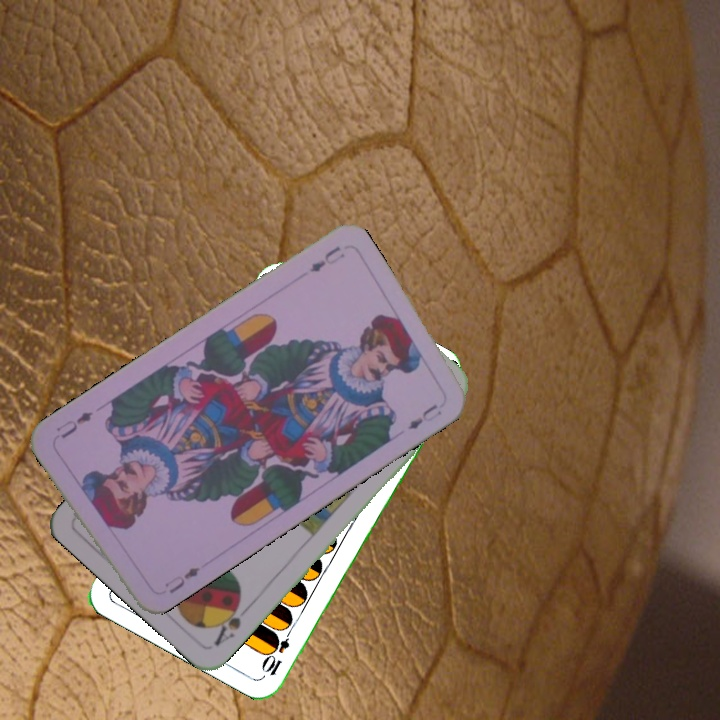E10: (261, 622, 296, 679)
EU: (160, 563, 202, 596), (306, 242, 347, 275)
SA: (210, 595, 253, 649)
